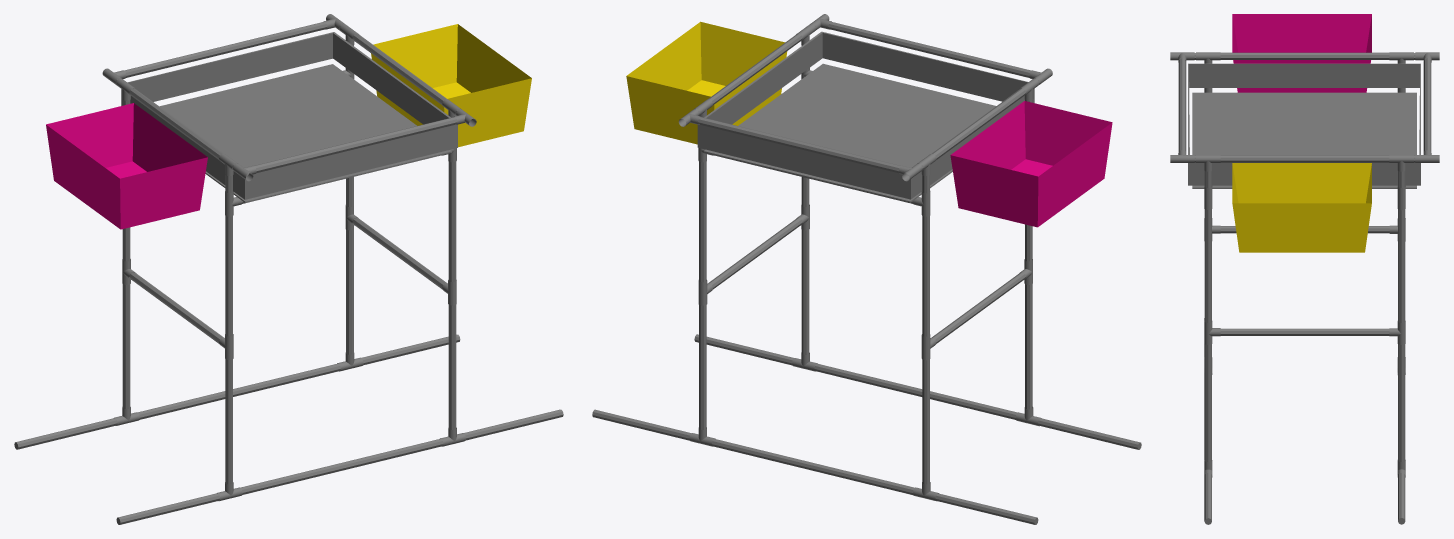
File: collection_table.dae
The picture shows the model from 3 angles, left to right: view 1: azimuth 30°, elevation 25°; view 2: azimuth 150°, elevation 25°; view 3: azimuth 270°, elevation 25°; orthographic projection. The views are drawn at different scales.
Visible parts, largest first — view 1: Cube.005, Cube.003, Cube.002; view 2: Cube.005, Cube.003, Cube.002; view 3: Cube.005, Cube.002, Cube.003.
Part boxes in pixels (bbox=[...]): Cube.005: bbox=[14, 14, 563, 524]; Cube.003: bbox=[46, 103, 207, 229]; Cube.002: bbox=[371, 24, 531, 147]; Cube.005: bbox=[592, 14, 1141, 524]; Cube.003: bbox=[950, 101, 1112, 227]; Cube.002: bbox=[626, 21, 787, 144]; Cube.005: bbox=[1170, 52, 1439, 524]; Cube.002: bbox=[1232, 163, 1371, 252]; Cube.003: bbox=[1232, 14, 1371, 92].
Bounding box in the file's own units: 1.18 × 0.6621 × 0.8667.
